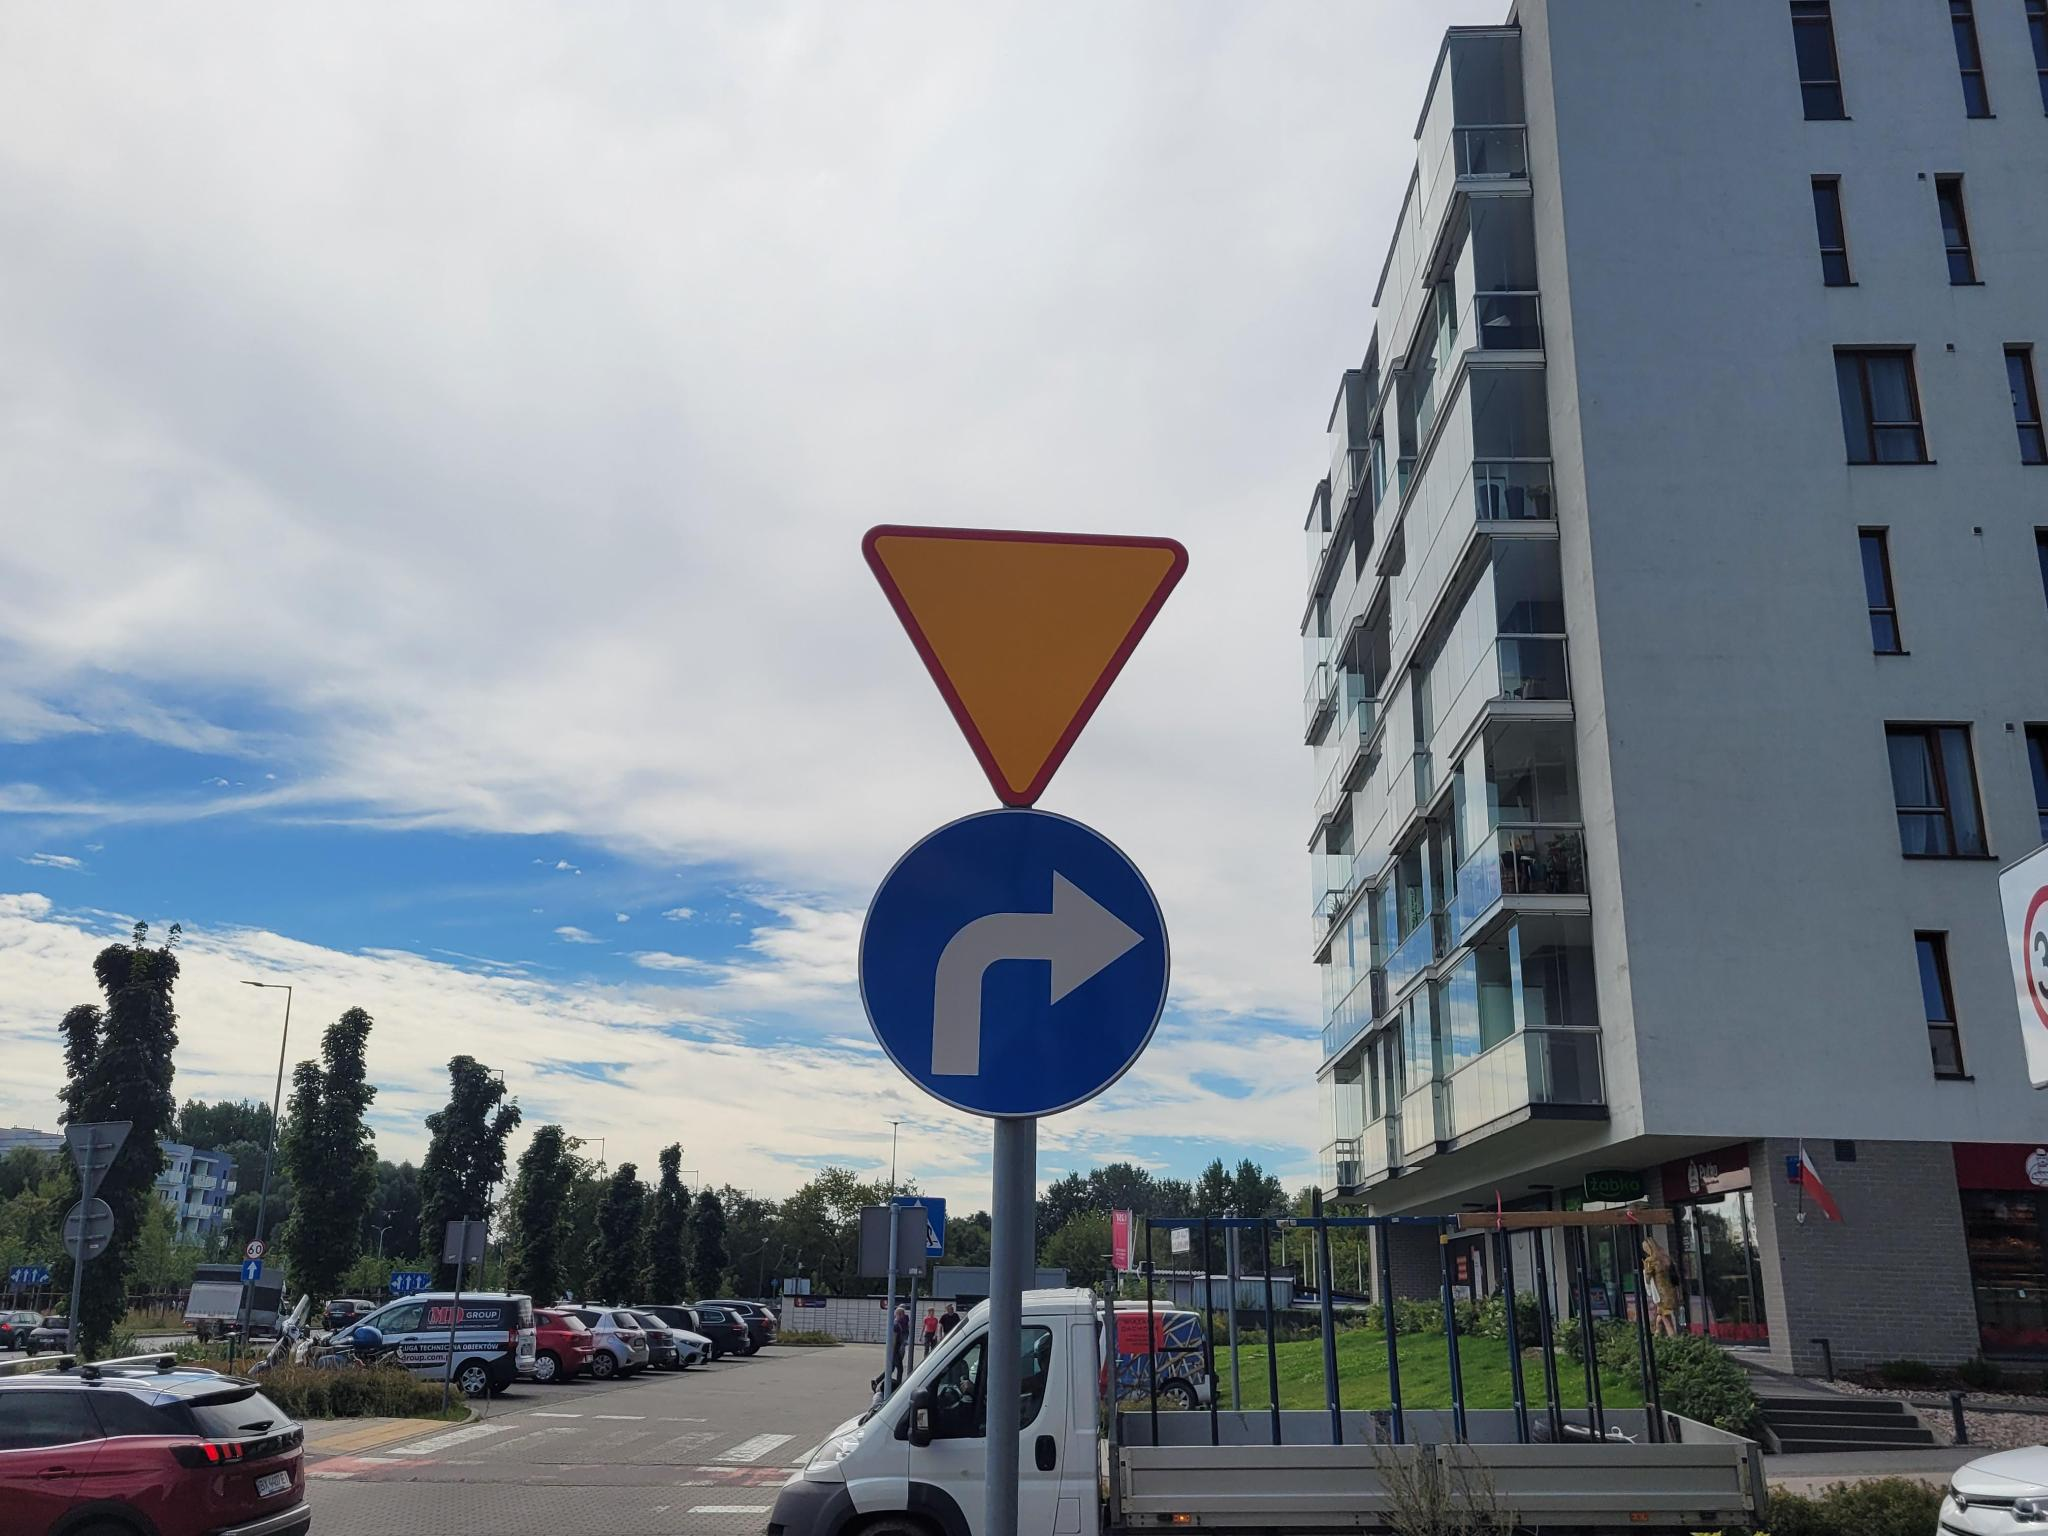information: (244, 1260, 261, 1279)
mandatory: (856, 807, 1172, 1118)
prohibitory: (245, 1239, 264, 1260)
warning: (860, 521, 1190, 810)
